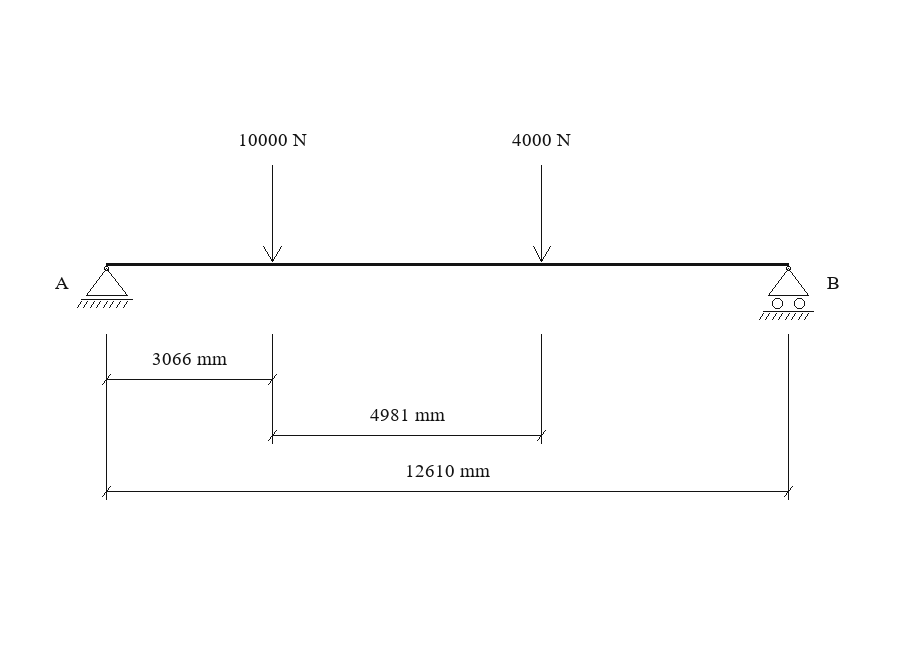pin_support: (77, 266, 133, 308)
point_load: (263, 165, 282, 262), (533, 165, 551, 262)
roller_support: (759, 266, 814, 320)
